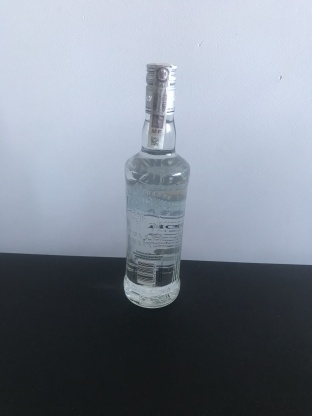nakretka: (143, 58, 178, 117)
